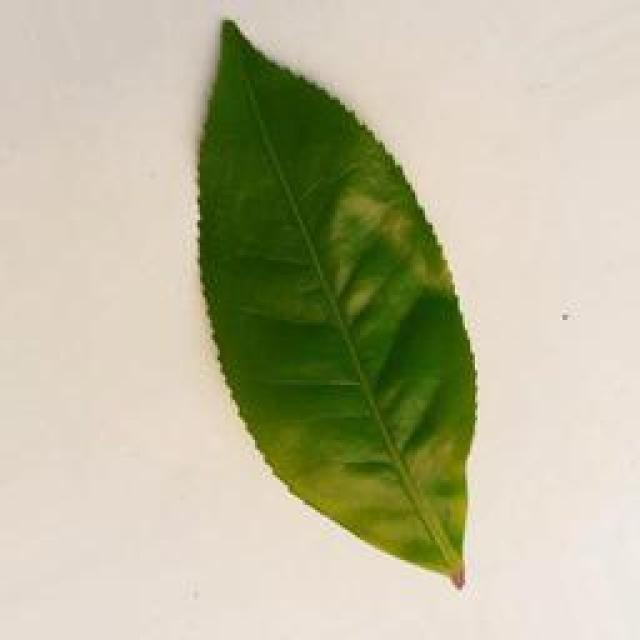Healthy: (181, 24, 476, 592)
